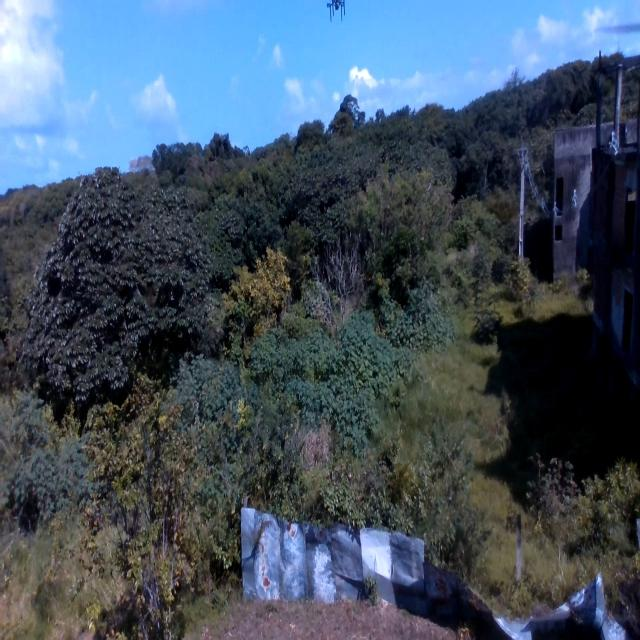-uav-: (324, 0, 355, 30)
